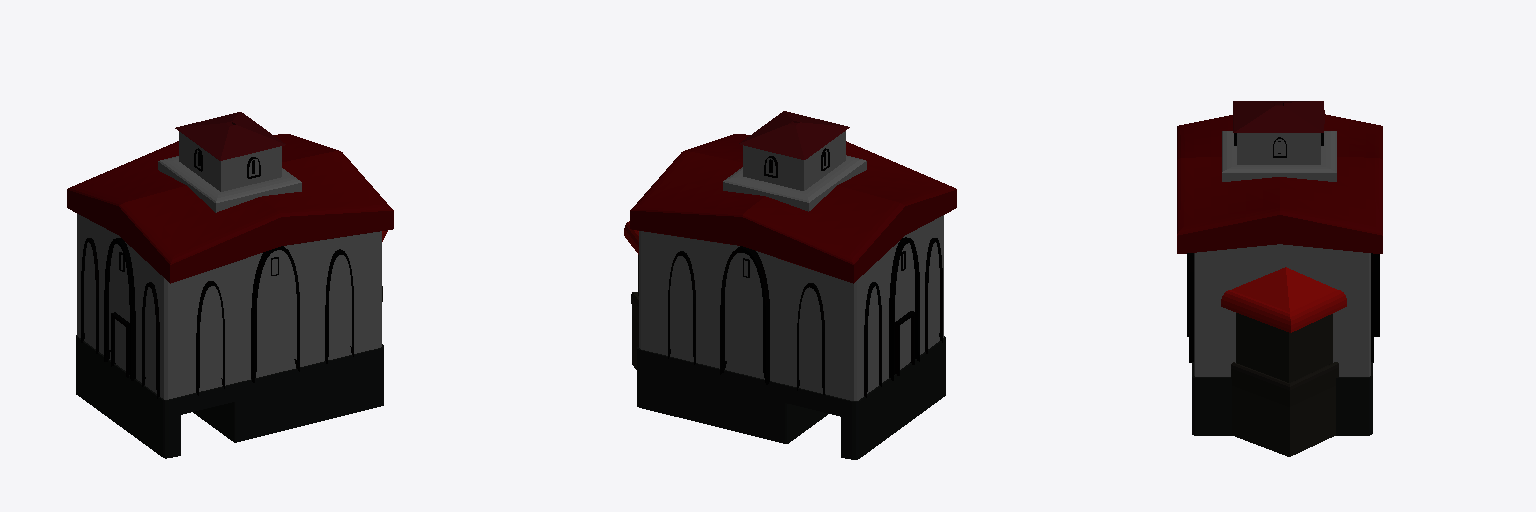
The model's file is church.obj.
The picture shows the model from 3 angles: view 1: azimuth 30°, elevation 25°; view 2: azimuth 150°, elevation 25°; view 3: azimuth 270°, elevation 25°; orthographic projection.
Visible parts, largest first — view 1: Cube.001_Cube.002, Cube.025_Cube.004, Cube_Cube.001, Cube.002_Cube.003, Cube.026_Cube.031, Cube.003_Cube, Cube.009_Cube.011, Cube.008_Cube.009, Cube.005, Cube.010_Cube.012, Cube.011_Cube.013; view 2: Cube.001_Cube.002, Cube.025_Cube.004, Cube_Cube.001, Cube.002_Cube.003, Cube.026_Cube.031, Cube.012_Cube.014, Cube.003_Cube, Cube.005, Cube.008_Cube.009, Cube.013_Cube.015, Cube.014_Cube.016, Cube.006 (+1 smaller); view 3: Cube.025_Cube.004, Cube.004_Cube.010, Cube.001_Cube.002, Cube.002_Cube.003, Cube.027_Cube.032, Cube_Cube.001, Cube.026_Cube.031, Cube.011_Cube.013.
Part boxes in pixels (x1,y1,x2,y2): Cube.001_Cube.002: (77, 214, 381, 399); Cube.025_Cube.004: (67, 134, 393, 283); Cube_Cube.001: (76, 335, 383, 458); Cube.002_Cube.003: (158, 132, 301, 212); Cube.026_Cube.031: (175, 112, 285, 160); Cube.003_Cube: (104, 238, 135, 380); Cube.009_Cube.011: (251, 246, 299, 382); Cube.008_Cube.009: (142, 282, 159, 398); Cube.005: (81, 238, 98, 353); Cube.010_Cube.012: (196, 281, 224, 395); Cube.011_Cube.013: (325, 249, 353, 363); Cube.001_Cube.002: (639, 215, 943, 400); Cube.025_Cube.004: (630, 134, 956, 283); Cube_Cube.001: (637, 336, 945, 459); Cube.002_Cube.003: (723, 131, 866, 211); Cube.026_Cube.031: (739, 111, 849, 159); Cube.012_Cube.014: (720, 246, 769, 384); Cube.003_Cube: (889, 237, 919, 380); Cube.005: (864, 282, 881, 397); Cube.008_Cube.009: (925, 238, 942, 353); Cube.013_Cube.015: (668, 251, 695, 364); Cube.014_Cube.016: (797, 283, 824, 394); Cube.006: (895, 311, 914, 375); Cube.025_Cube.004: (1177, 114, 1382, 253); Cube.004_Cube.010: (1231, 313, 1338, 456); Cube.001_Cube.002: (1194, 244, 1370, 376); Cube.002_Cube.003: (1222, 131, 1336, 181); Cube.027_Cube.032: (1221, 267, 1346, 332); Cube_Cube.001: (1192, 362, 1372, 435); Cube.026_Cube.031: (1233, 101, 1324, 132); Cube.011_Cube.013: (1189, 253, 1193, 362).
Bounding box in the file's own units: 13.9 × 13.28 × 8.96.